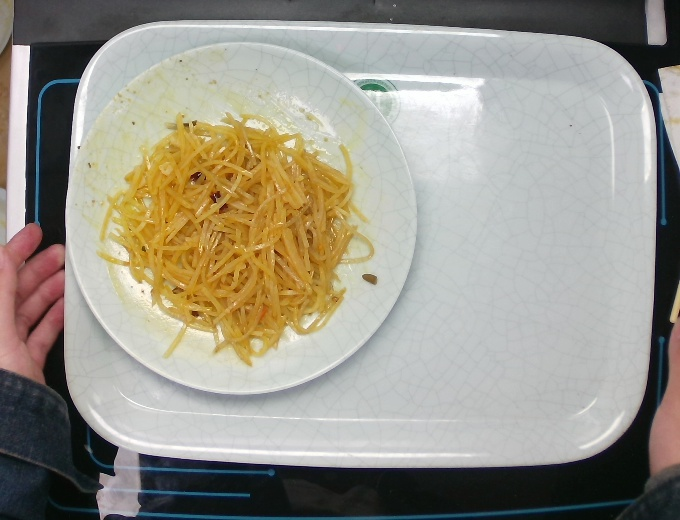JYsf-Da_Yuan_Pan: (62, 38, 423, 398)
